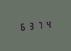four: (42, 19, 49, 29)
seven: (34, 20, 41, 30)
six: (18, 21, 25, 31)
three: (26, 20, 33, 31)
